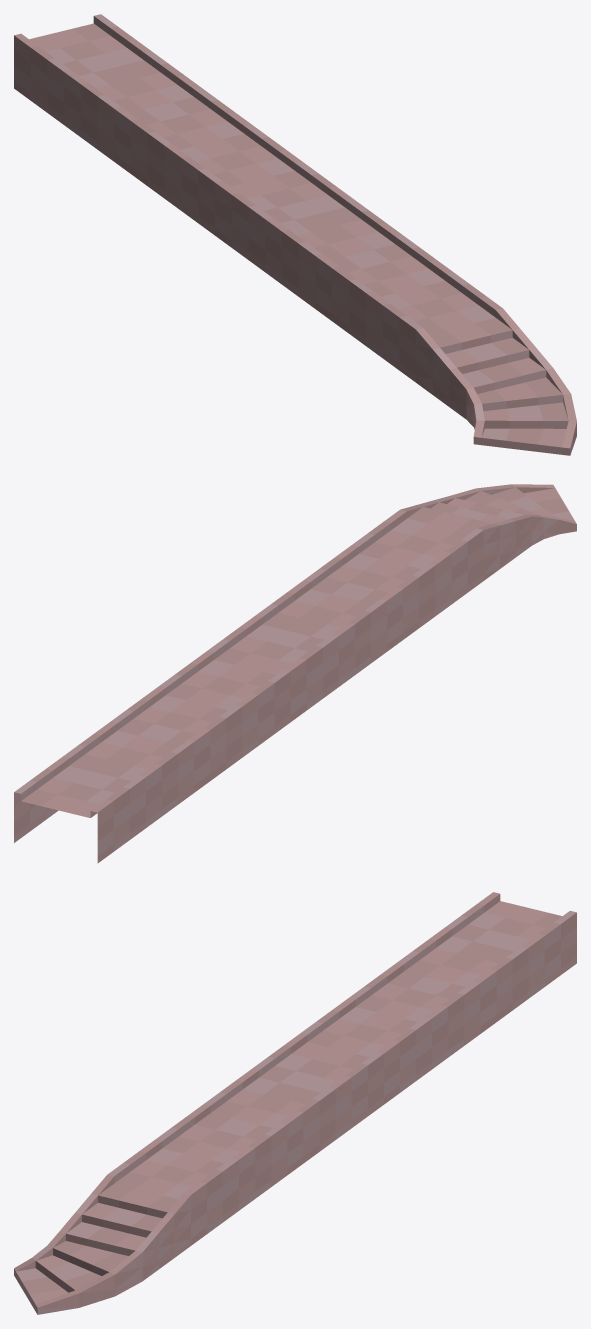
File: Map_BuildingStairs.fbx
3 views of the same model, one above another, from view 1: azimuth 30°, elevation 25°; view 2: azimuth 150°, elevation 25°; view 3: azimuth 330°, elevation 25° (orthographic). The views are drawn at different scales.
Parts seen in each view (by area): view 1: MSH_PathStairs_Narrow_Medium2, MSH_PathStairs_Narrow_Medium1, MSH_Path_Narrow_Short7; view 2: MSH_PathStairs_Narrow_Medium2, MSH_PathStairs_Narrow_Medium1, MSH_Path_Narrow_Short7; view 3: MSH_PathStairs_Narrow_Medium1, MSH_PathStairs_Narrow_Medium2, MSH_Path_Narrow_Short7.
Part boxes in pixels (x1,y1,x2,y2): MSH_PathStairs_Narrow_Medium2: (14, 14, 301, 235); MSH_PathStairs_Narrow_Medium1: (215, 161, 502, 382); MSH_Path_Narrow_Short7: (416, 308, 576, 455); MSH_PathStairs_Narrow_Medium2: (14, 651, 290, 863); MSH_PathStairs_Narrow_Medium1: (207, 509, 483, 721); MSH_Path_Narrow_Short7: (401, 484, 576, 580); MSH_PathStairs_Narrow_Medium1: (107, 1033, 383, 1245); MSH_PathStairs_Narrow_Medium2: (301, 892, 576, 1104); MSH_Path_Narrow_Short7: (14, 1174, 190, 1314).
Size of the model in its own units: 368 by 175 by 3077.
